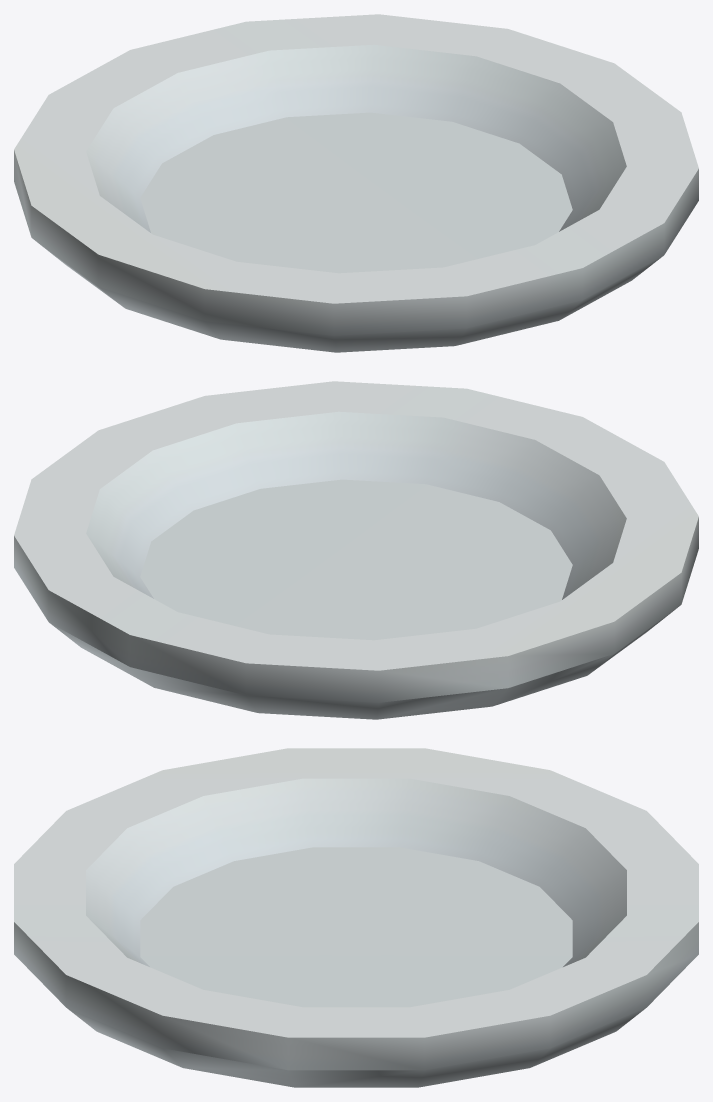
The model's file is tallrik.glb.
The picture shows the model from 3 angles, top to bottom: view 1: azimuth 30°, elevation 25°; view 2: azimuth 150°, elevation 25°; view 3: azimuth 270°, elevation 25°; orthographic projection.
Visible parts, largest first — view 1: plate; view 2: plate; view 3: plate.
Boxes of the visible parts, bbox=[...] form: plate: bbox=[14, 14, 698, 352]; plate: bbox=[14, 381, 698, 719]; plate: bbox=[14, 748, 698, 1087].
Size of the model in its own units: 0.95 by 0.1 by 0.95.
Materials: 1 (1 with a texture image).
